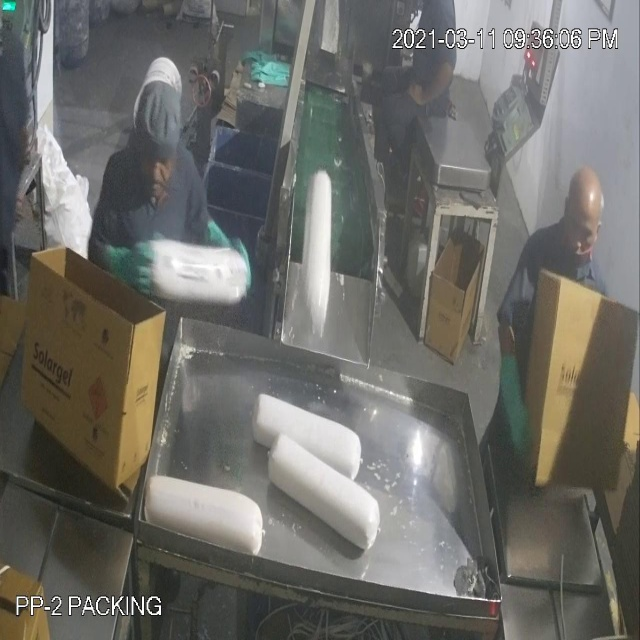Guantes: (489, 348, 537, 460)
Sin_guantes: (401, 60, 452, 109)
